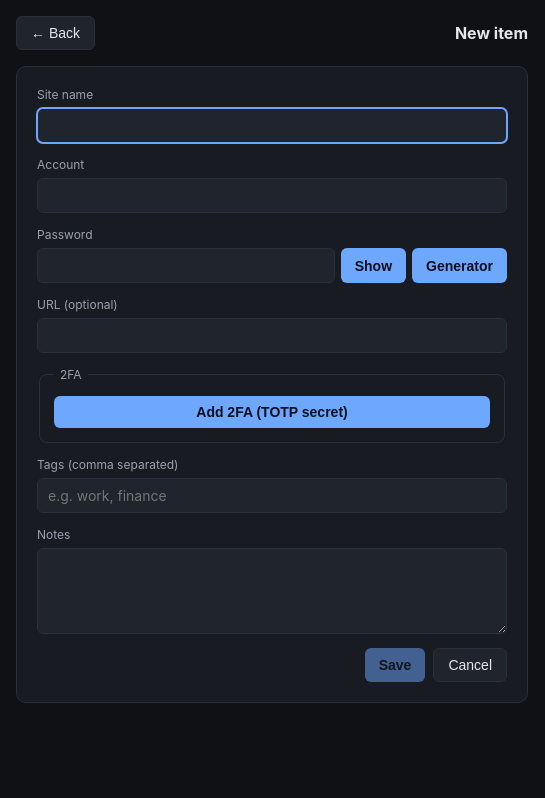
it: ItemDetail — new item › reveals the 2FA fields when adding 2FA
This screenshot has width=545, height=798.
Step 1. Click the button "Add 2FA (TOTP secret)" → {"x": 272, "y": 412}, box [54,396,490,428]
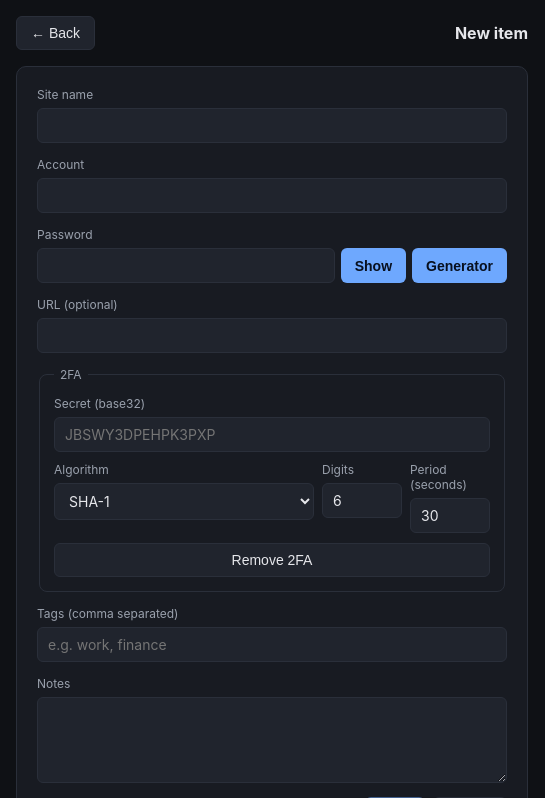
Check: the field labelled "Secret (base32)" is shown, box [54,417,490,452]
